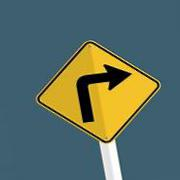right: (33, 40, 162, 143)
